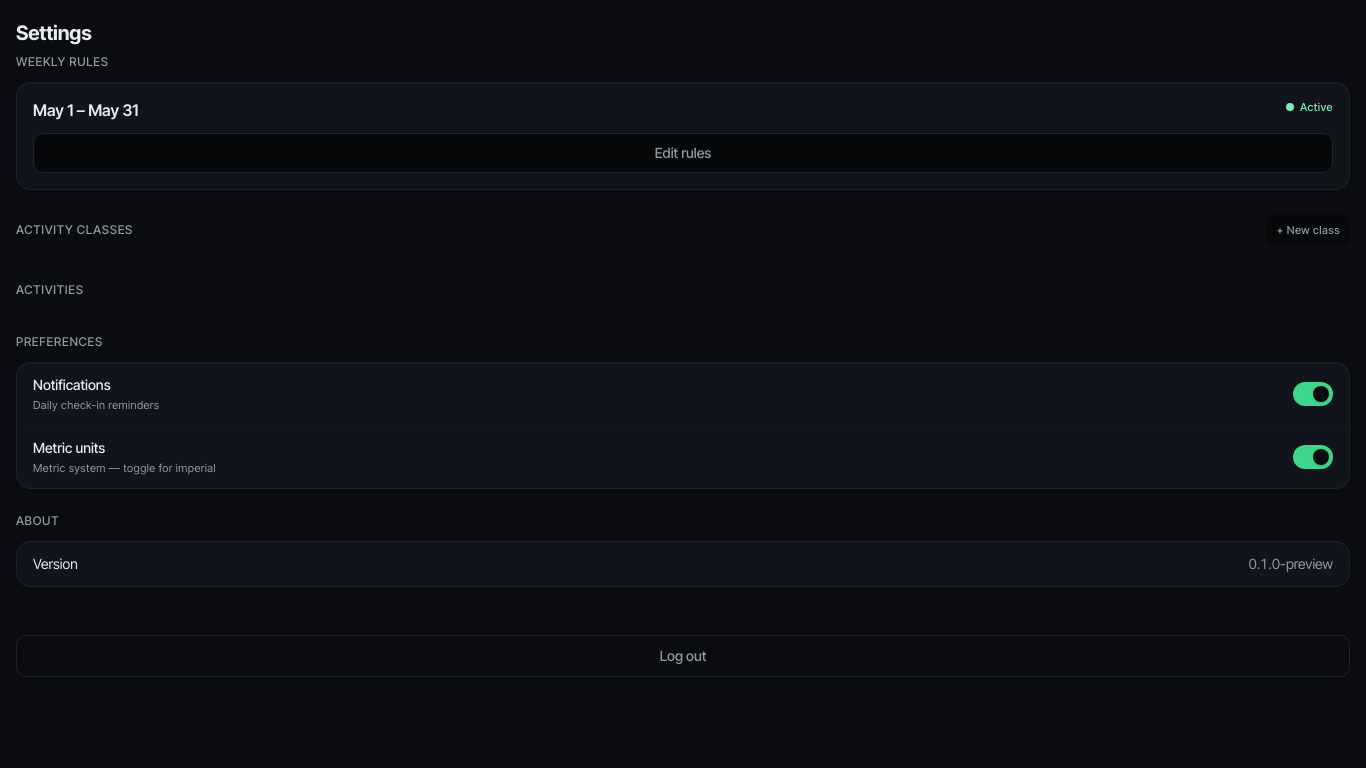
Test case: SettingsScreen — P25.2 NewActivityClassForm centered modal › retains X close control on new class dialog
Click the button "+ New class".
click(1308, 230)  # box [1266, 214, 1350, 246]
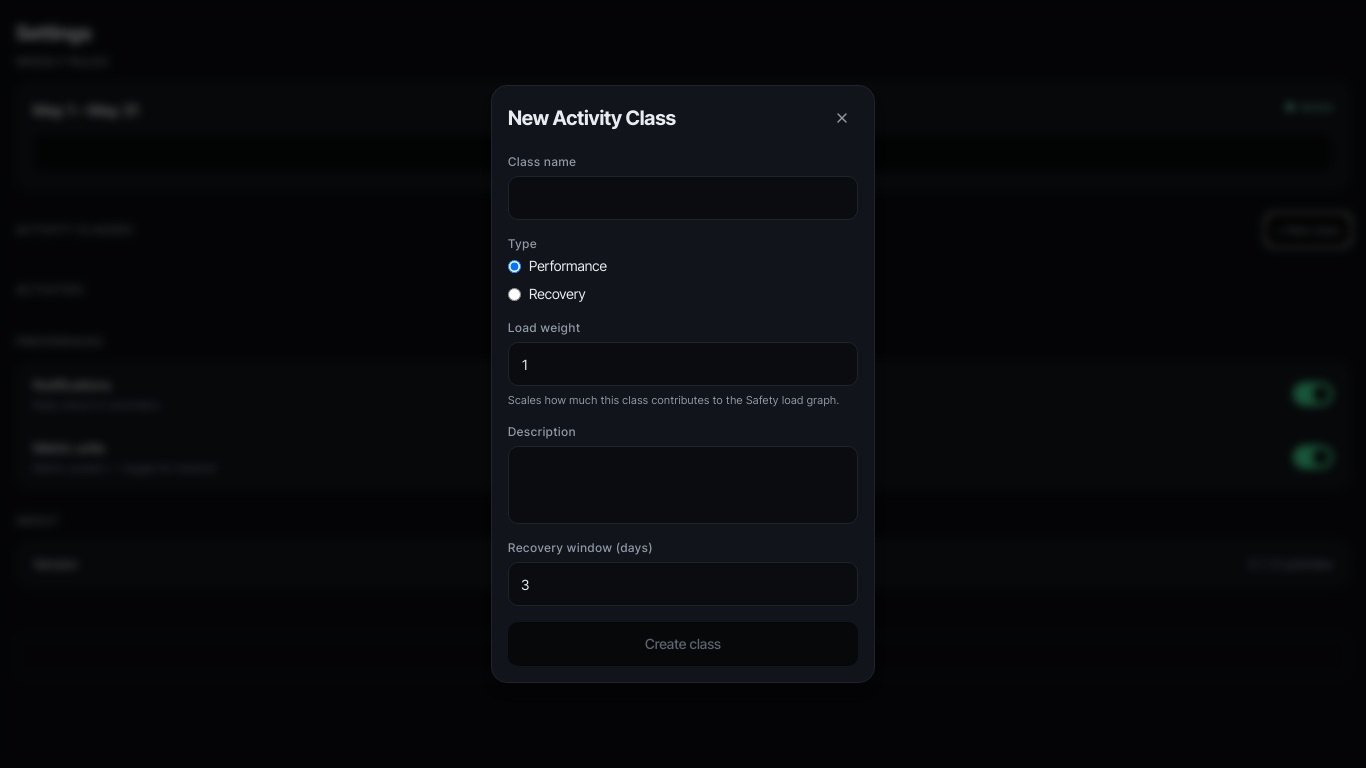
Click the button named "close".
click(842, 118)  # box [826, 102, 858, 134]
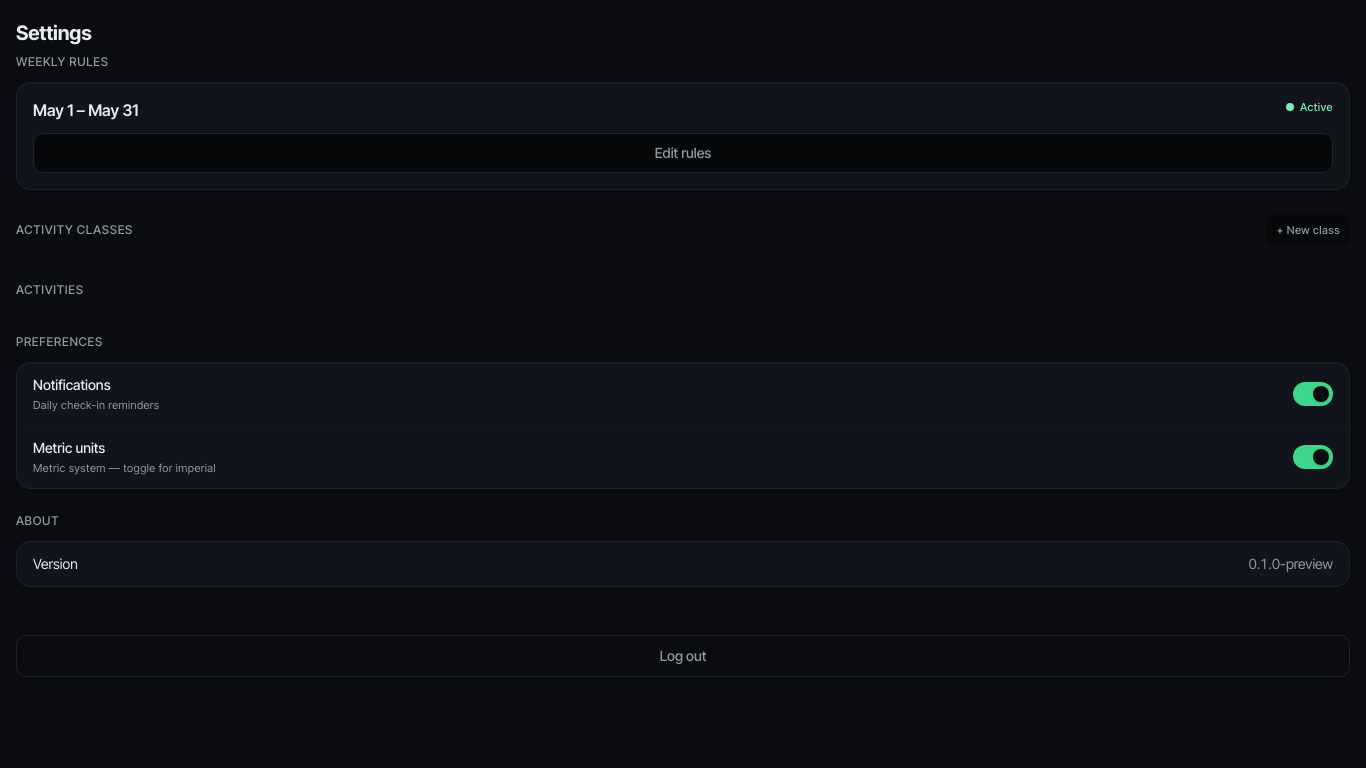
Result: the heading "New Activity Class" is gone
